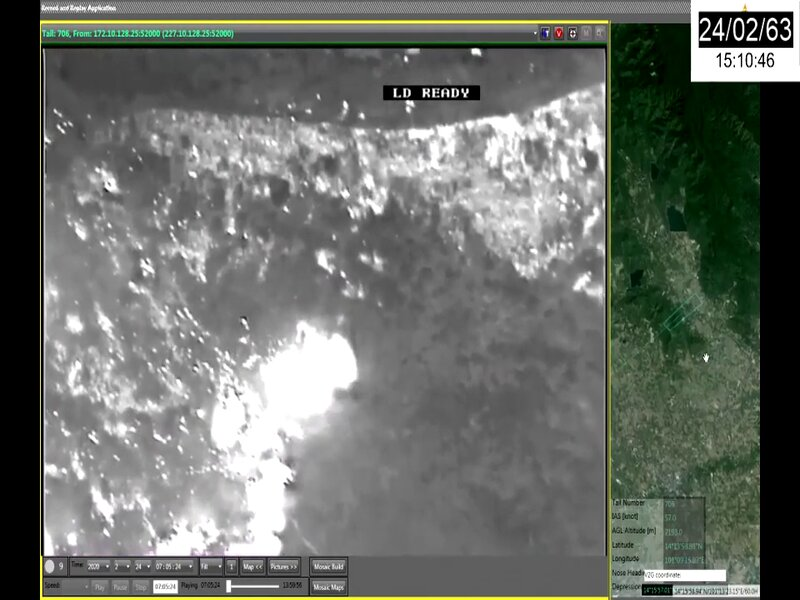Fire: (157, 320, 358, 555)
